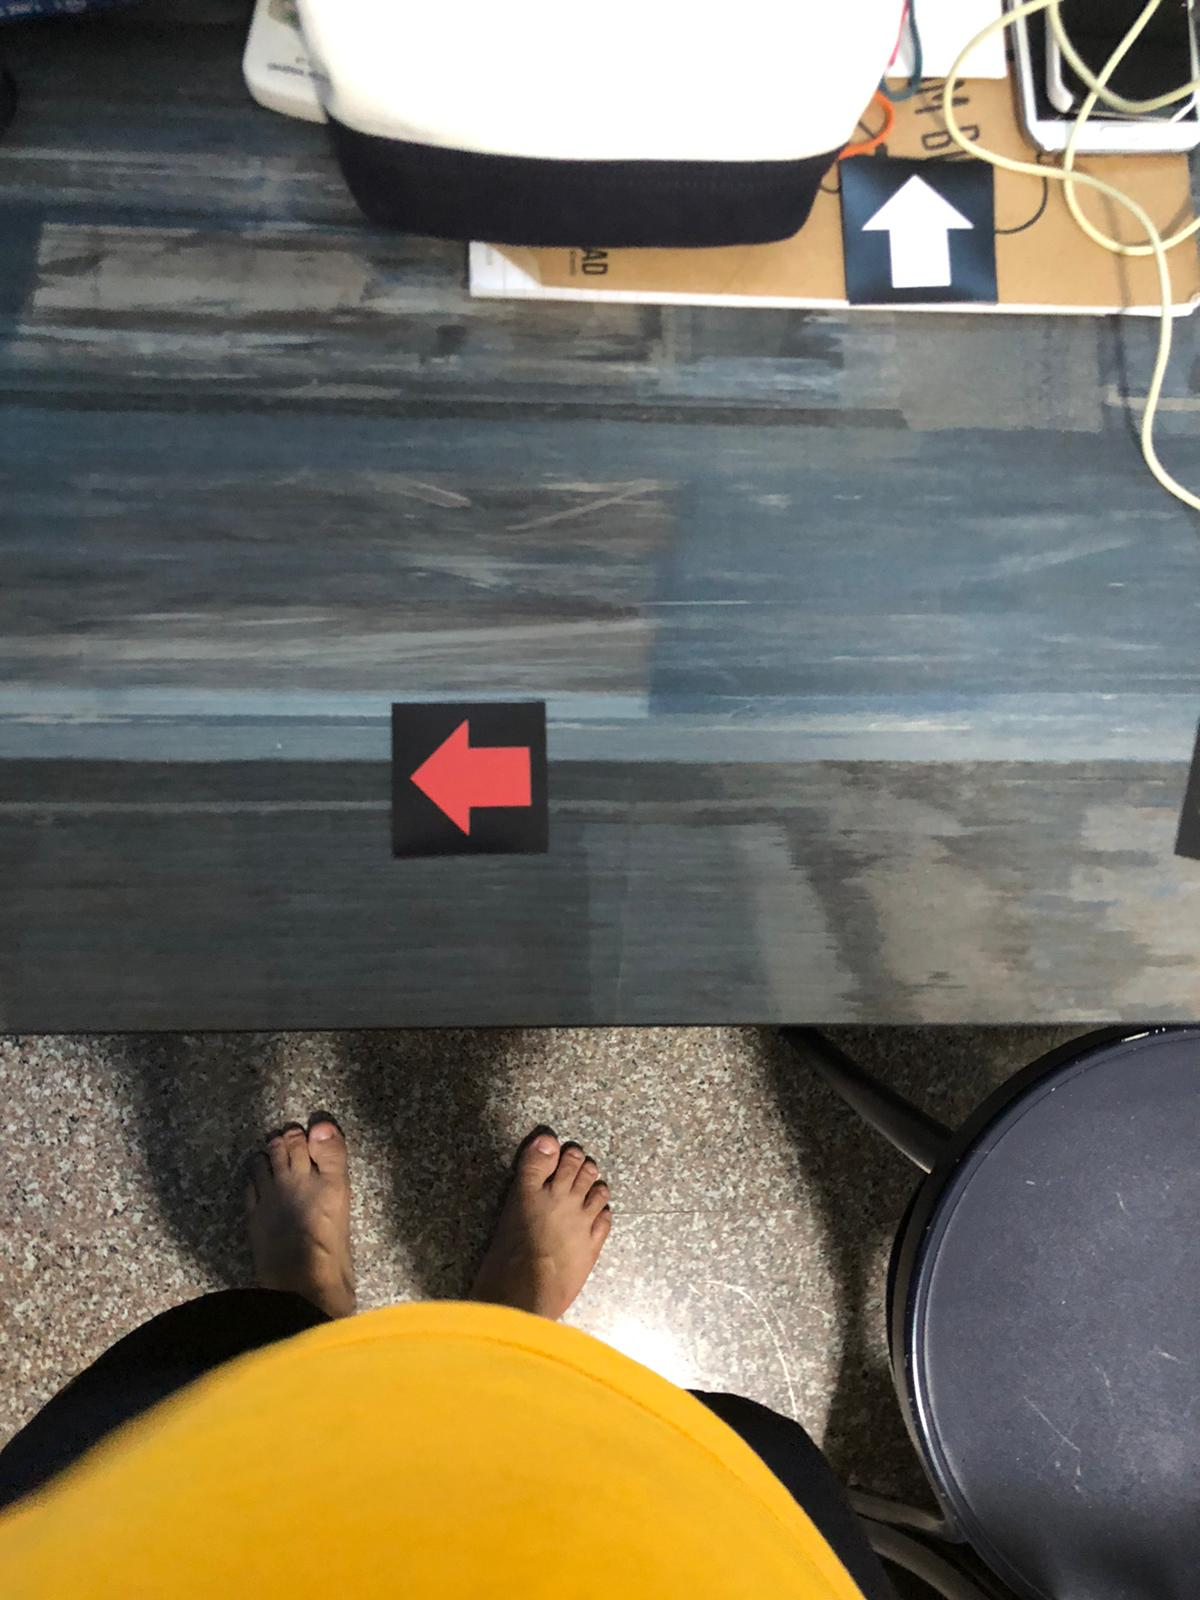Left Arrow: (395, 706, 546, 857)
Top Arrow: (834, 164, 1001, 305)
